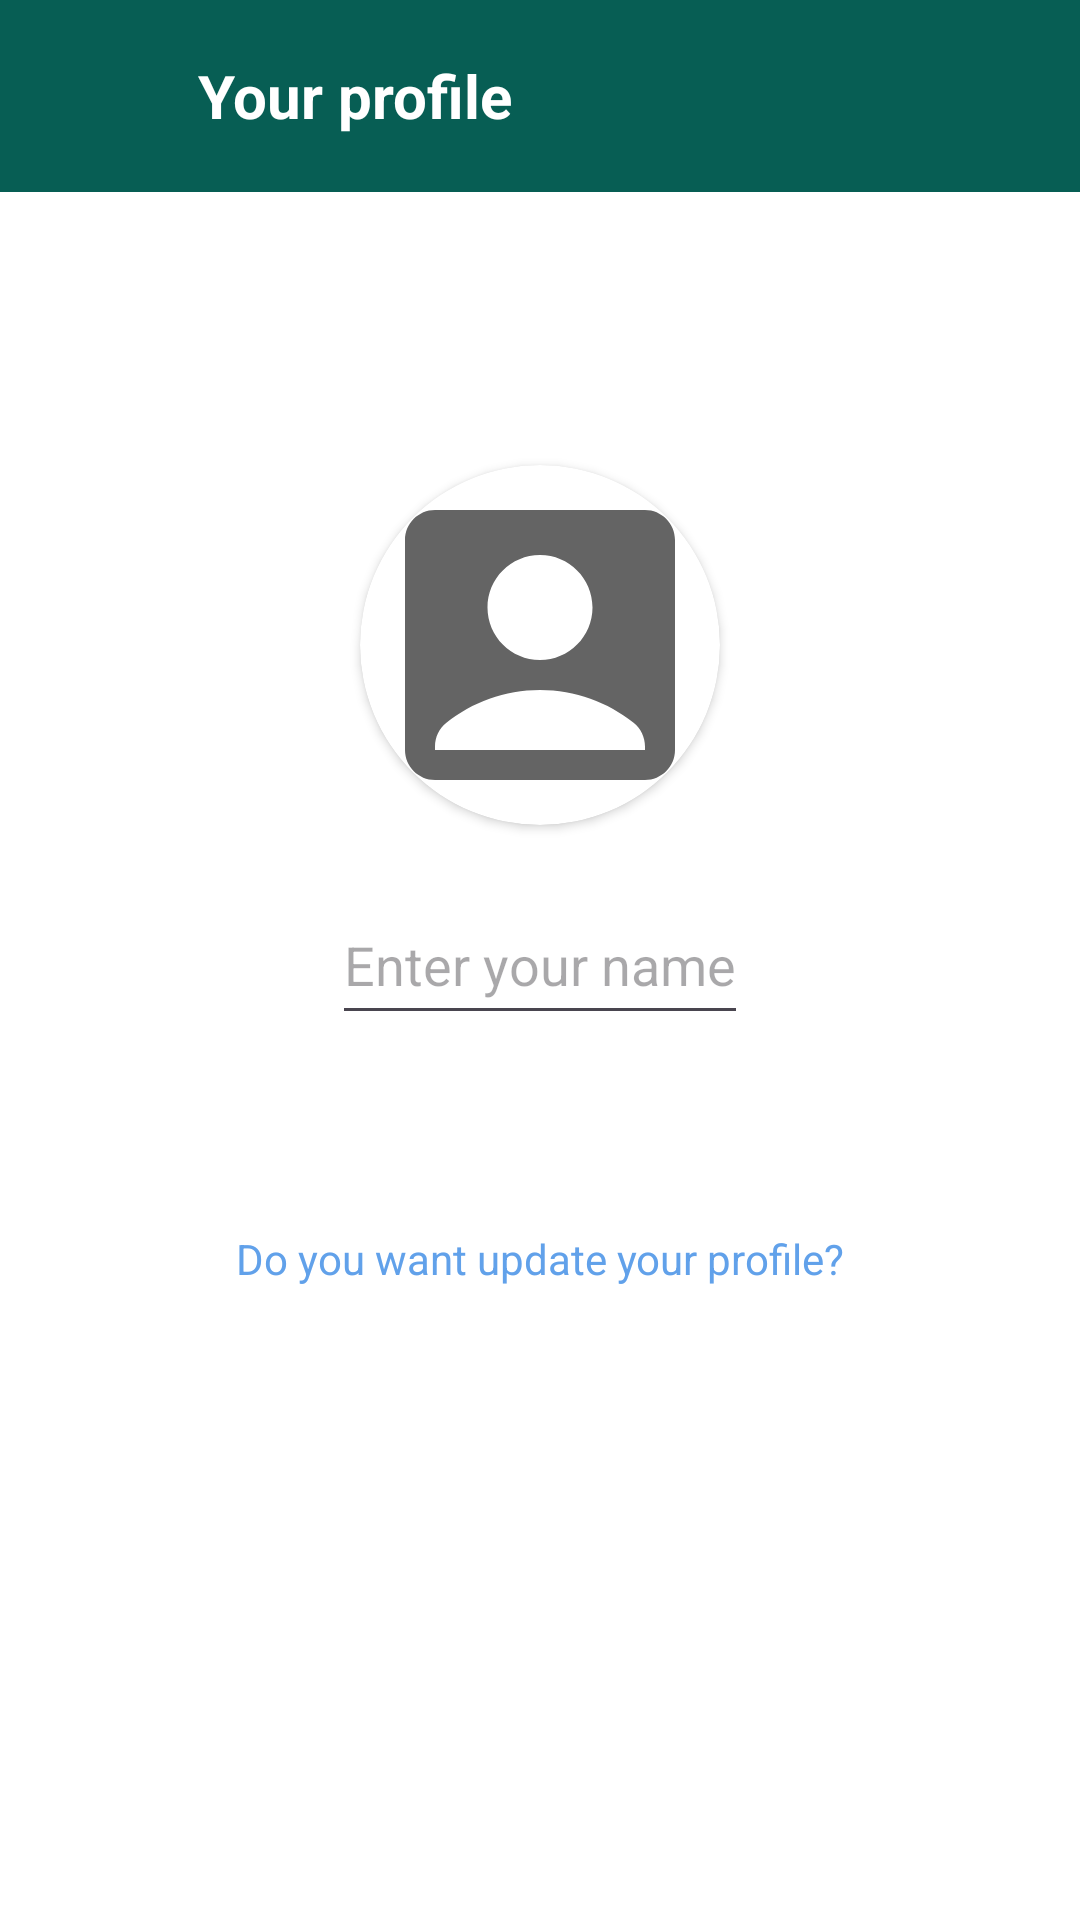

Screen size 1080px x 1920px. Icon name, then its center in pixels as point (x, y):
account box: point (540, 667)
